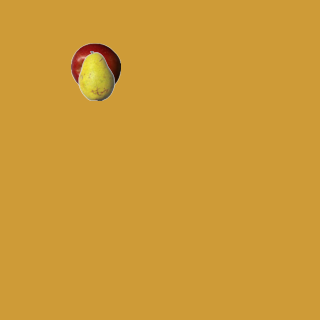Apple Braeburn: (70, 42, 120, 92)
Pear Monster: (71, 50, 121, 100)
